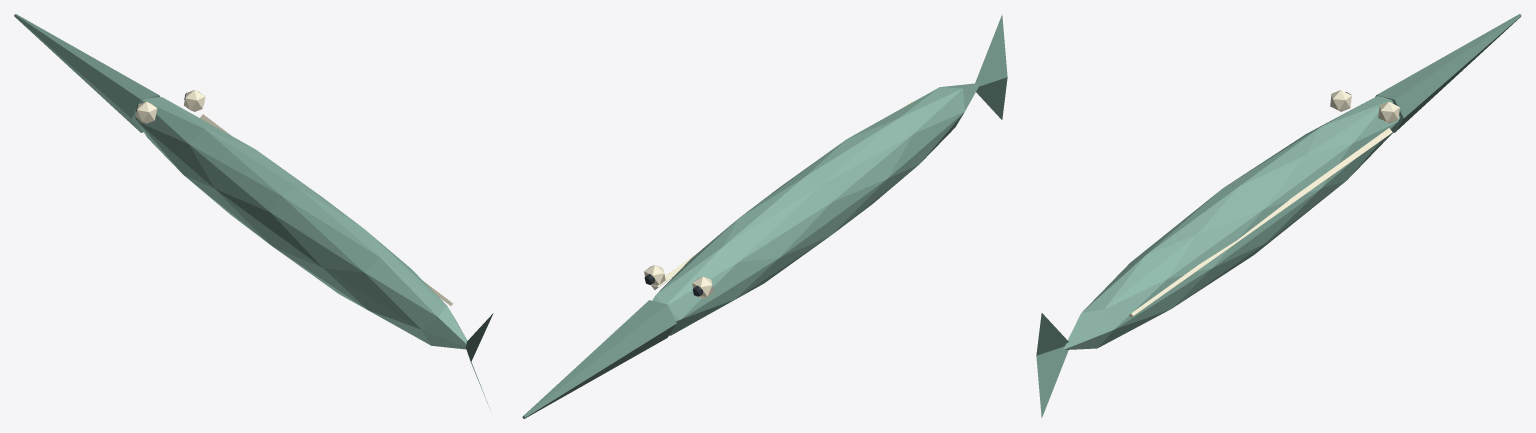
Rendered from Needlefish.fbx.
The picture shows the model from 3 angles, left to right: view 1: azimuth 30°, elevation 25°; view 2: azimuth 150°, elevation 25°; view 3: azimuth 330°, elevation 25°; orthographic projection.
Parts seen in each view (by area): view 1: NeedleBody, LongBeak, TailFan; view 2: NeedleBody, LongBeak, TailFan; view 3: NeedleBody, LongBeak, TailFan, LateralStripe.
Part boxes in pixels (left/top/right/bottom): NeedleBody: left=135, top=97, right=467, bottom=349; LongBeak: left=14, top=14, right=160, bottom=132; TailFan: left=465, top=313, right=493, bottom=407; NeedleBody: left=652, top=83, right=978, bottom=335; LongBeak: left=522, top=300, right=676, bottom=418; TailFan: left=975, top=14, right=1007, bottom=119; NeedleBody: left=1063, top=96, right=1400, bottom=349; LongBeak: left=1375, top=14, right=1521, bottom=132; TailFan: left=1036, top=313, right=1068, bottom=418; LateralStripe: left=1129, top=128, right=1392, bottom=317.
Bounding box in the file's own units: 0.0948 × 0.144 × 1.17.
